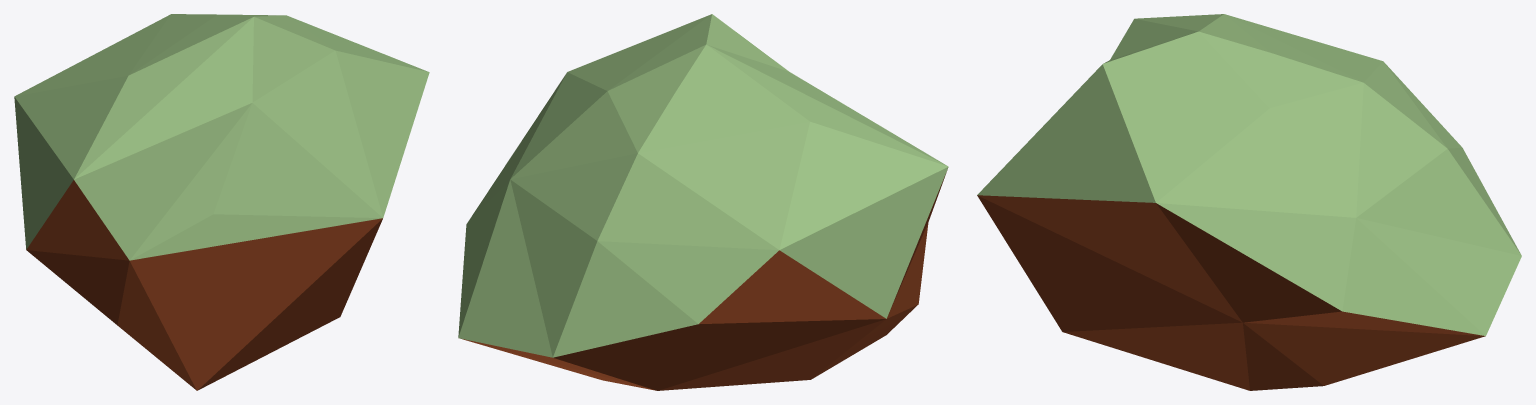
Rendered from Rock.glb.
The picture shows the model from 3 angles, left to right: view 1: azimuth 30°, elevation 25°; view 2: azimuth 150°, elevation 25°; view 3: azimuth 270°, elevation 25°; orthographic projection. The views are drawn at different scales.
Visible parts, largest first — view 1: Tree.079; view 2: Tree.079; view 3: Tree.079.
Part boxes in pixels (x1,y1,x2,y2): Tree.079: (14,14,429,390); Tree.079: (458,14,948,390); Tree.079: (977,14,1521,390).
Bounding box in the file's own units: 0.9992 × 0.792 × 1.13.
1 material, 1 textured.
